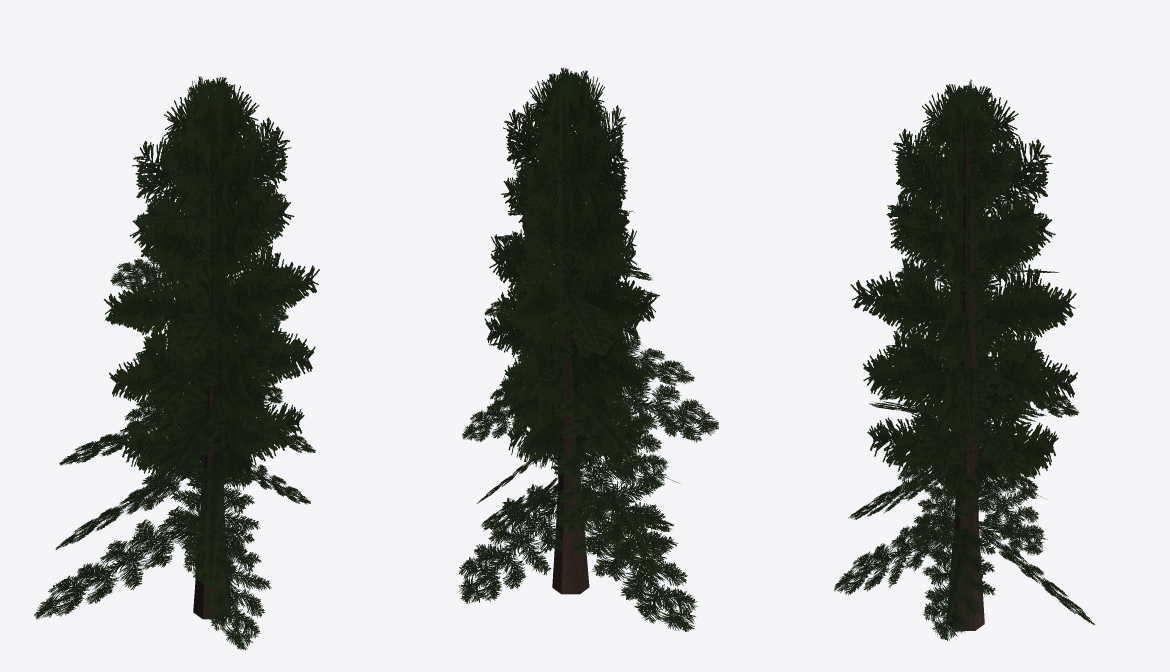
File: pine_a_lod.glb
The picture shows the model from 3 angles, left to right: view 1: azimuth 30°, elevation 25°; view 2: azimuth 150°, elevation 25°; view 3: azimuth 270°, elevation 25°; orthographic projection. The views are drawn at different scales.
Parts seen in each view (by area): view 1: pine_a_lod_pine_needles_a, pine_a_lod_bark_pine; view 2: pine_a_lod_pine_needles_a, pine_a_lod_bark_pine; view 3: pine_a_lod_pine_needles_a, pine_a_lod_bark_pine.
Boxes of the visible parts, x1=… form: pine_a_lod_pine_needles_a: x1=34, y1=76, x2=319, y2=650; pine_a_lod_bark_pine: x1=193, y1=258, x2=231, y2=619; pine_a_lod_pine_needles_a: x1=458, y1=67, x2=718, y2=631; pine_a_lod_bark_pine: x1=552, y1=196, x2=589, y2=594; pine_a_lod_pine_needles_a: x1=834, y1=79, x2=1095, y2=640; pine_a_lod_bark_pine: x1=946, y1=114, x2=984, y2=630.
Size of the model in its own units: 9.44 by 14.73 by 9.08.
2 materials, 2 textured.
